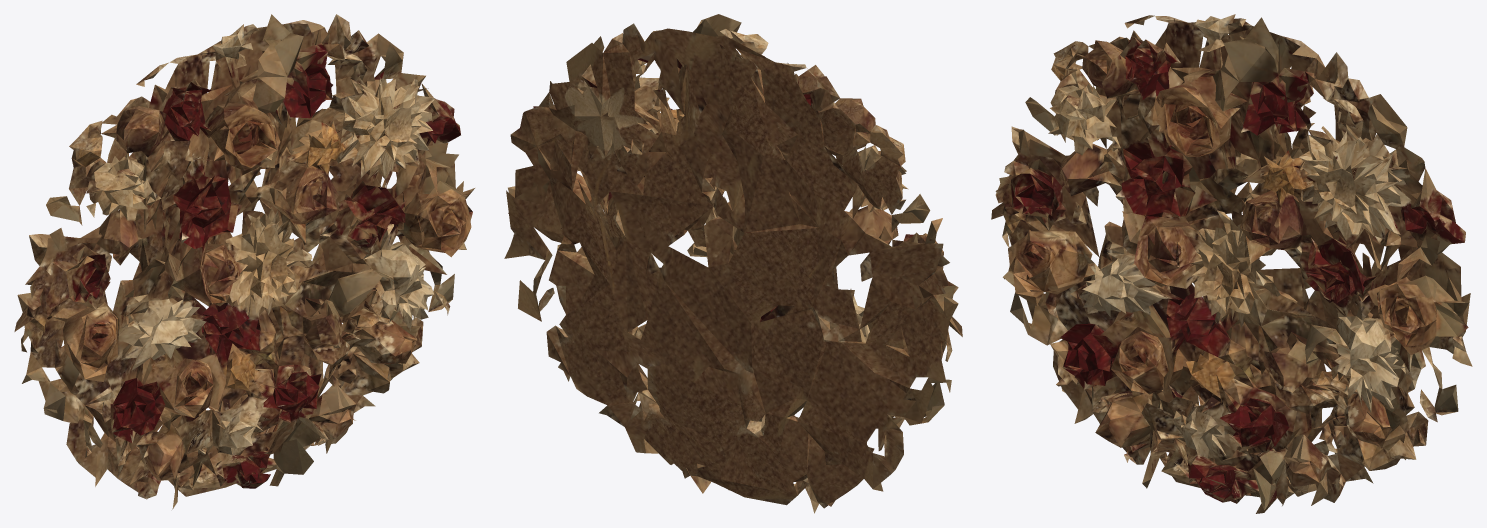
File: remeshed-wreath.glb
The picture shows the model from 3 angles, left to right: view 1: azimuth 30°, elevation 25°; view 2: azimuth 150°, elevation 25°; view 3: azimuth 330°, elevation 25°; orthographic projection. The views are drawn at different scales.
Parts seen in each view (by area): view 1: output_unwrapped; view 2: output_unwrapped; view 3: output_unwrapped.
Part boxes in pixels (x1,y1,x2,y2): output_unwrapped: (14, 14, 474, 509); output_unwrapped: (504, 14, 962, 513); output_unwrapped: (991, 14, 1472, 513).
Bounding box in the file's own units: 1.86 × 1.84 × 0.2383.
Materials: 1 (1 with a texture image).
